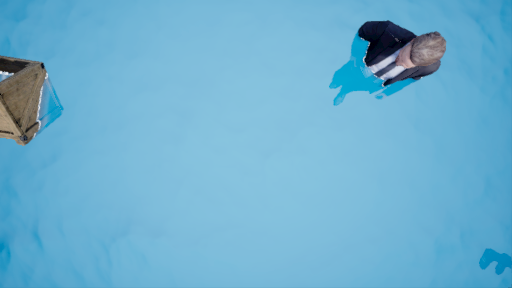person: (326, 16, 439, 112)
